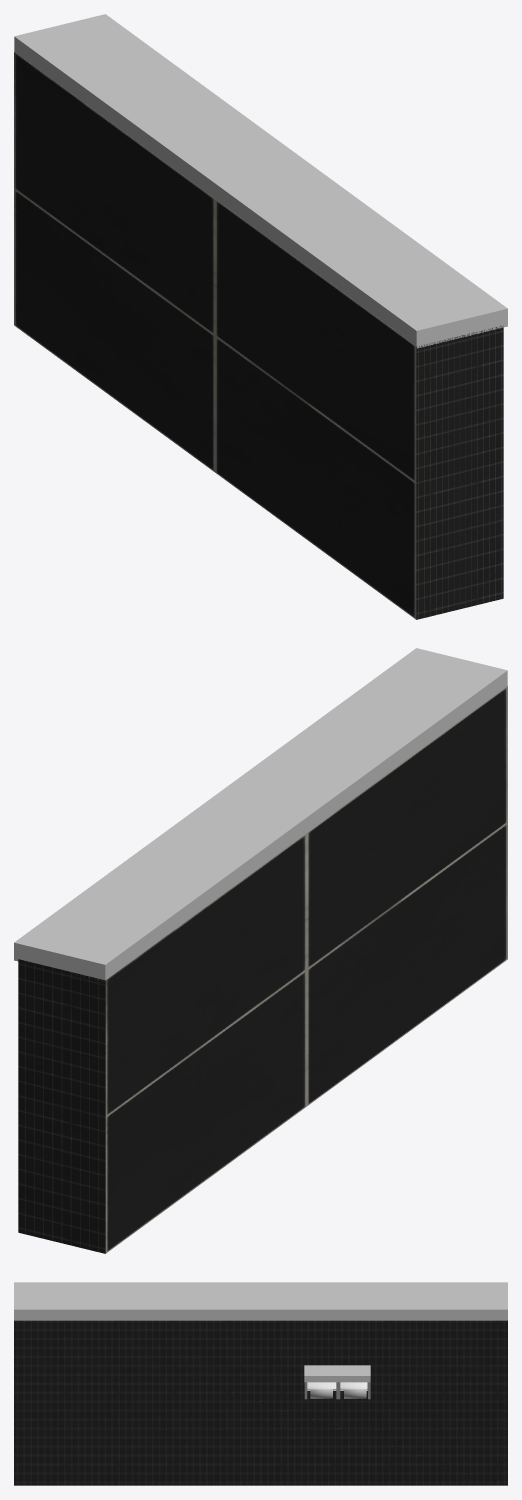
File: toiletChest.fbx
The picture shows the model from 3 angles, top to bottom: view 1: azimuth 30°, elevation 25°; view 2: azimuth 150°, elevation 25°; view 3: azimuth 270°, elevation 25°; orthographic projection. The views are drawn at different scales.
Visible parts, largest first — view 1: Cube, 立方体; view 2: Cube, 立方体; view 3: Cube, 立方体, 立方体.001.
Boxes of the visible parts, <box> form: Cube: <box>14,52,503,619</box>; 立方体: <box>14,14,507,348</box>; Cube: <box>18,686,507,1253</box>; 立方体: <box>14,648,507,981</box>; Cube: <box>14,1320,507,1485</box>; 立方体: <box>14,1282,507,1320</box>; 立方体.001: <box>304,1365,370,1382</box>.
Bounding box in the file's own units: 141 × 317 × 800.
